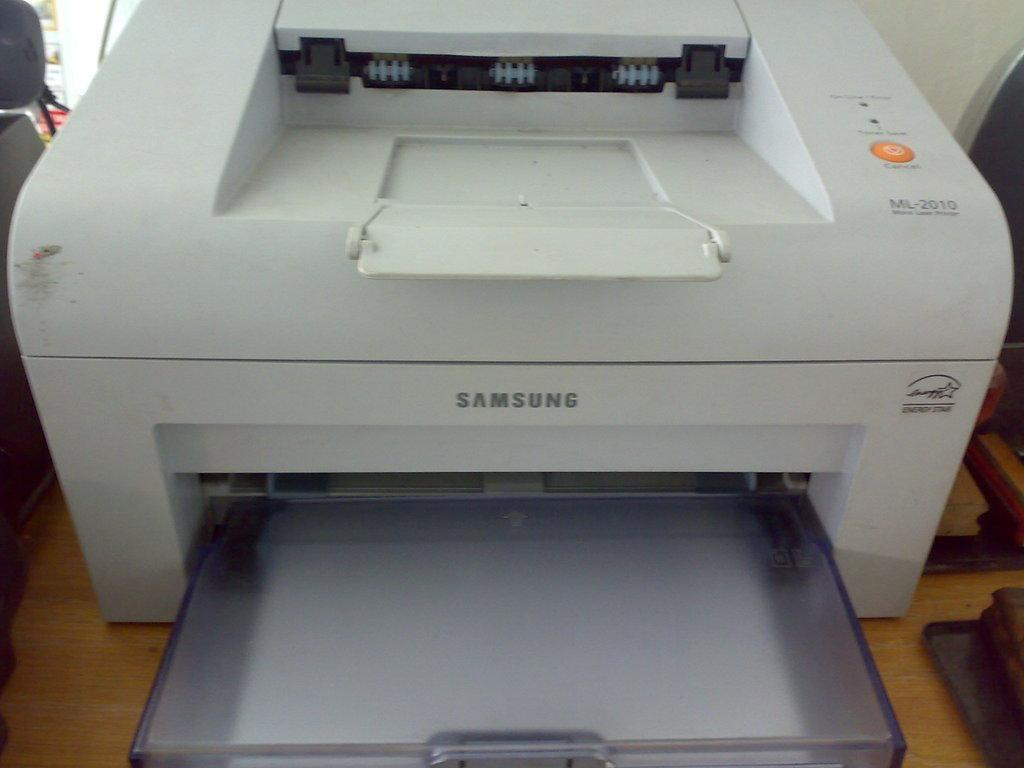Printer: (7, 0, 1013, 767)
